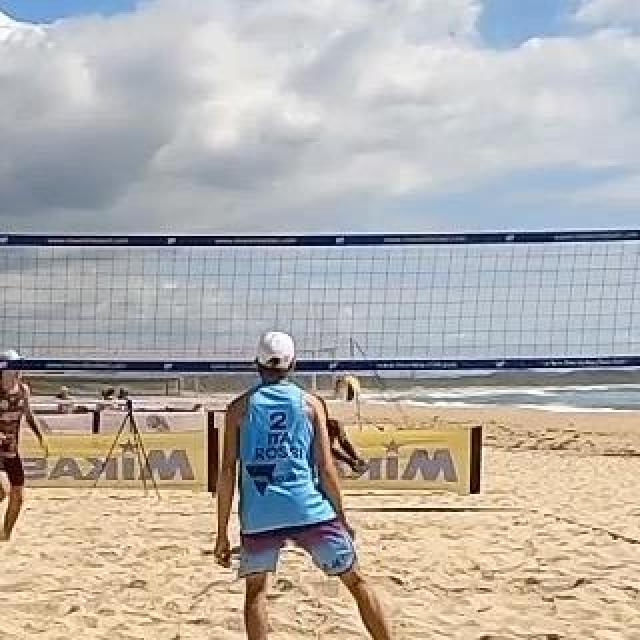volleyball: (336, 375, 360, 403)
